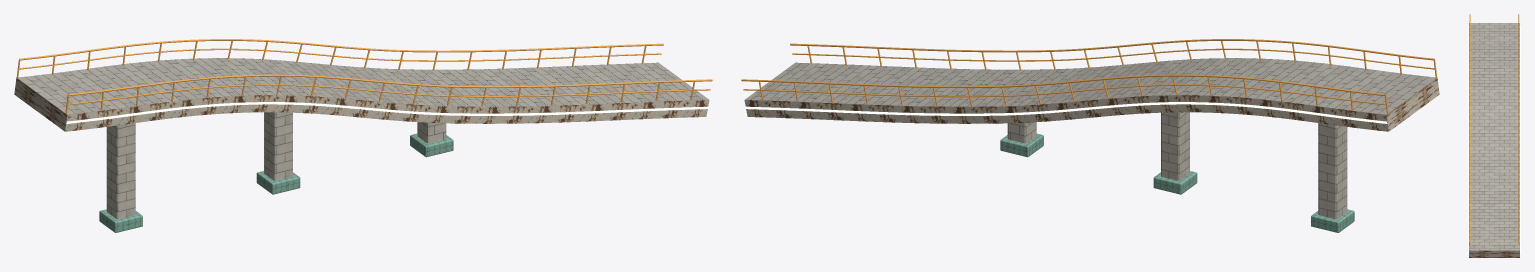
File: Mock_RampOut.glb
3 views of the same model, side by side, from view 1: azimuth 30°, elevation 25°; view 2: azimuth 150°, elevation 25°; view 3: azimuth 270°, elevation 25° (orthographic). The views are drawn at different scales.
Visible parts, largest first — view 1: Mock_RampOut_Deck, Mock_RampOut_Neon-1, Mock_RampOut_SupBase9; view 2: Mock_RampOut_Deck, Mock_RampOut_Neon-1, Mock_RampOut_SupBase9; view 3: Mock_RampOut_Deck, Mock_RampOut_Neon-1.
Boxes of the visible parts, x1,y1,x2,y2 form: Mock_RampOut_Deck: (14,39,712,219); Mock_RampOut_Neon-1: (14,83,708,123); Mock_RampOut_SupBase9: (99,133,453,232); Mock_RampOut_Deck: (741,39,1439,219); Mock_RampOut_Neon-1: (745,83,1439,123); Mock_RampOut_SupBase9: (1000,133,1354,232); Mock_RampOut_Deck: (1469,14,1519,257); Mock_RampOut_Neon-1: (1468,26,1520,254).
Size of the model in its own units: 36.83 by 9.62 by 5.2.
Materials: 5 (3 with a texture image).
